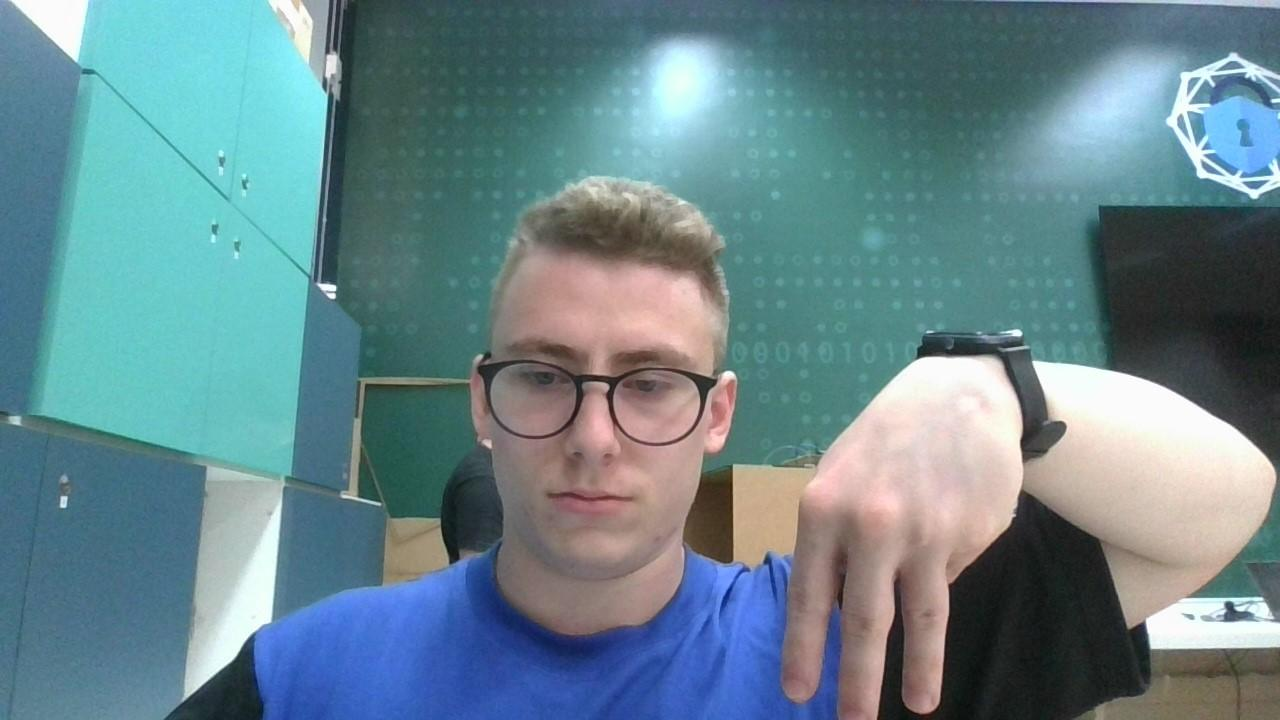M: (782, 344, 1026, 720)
